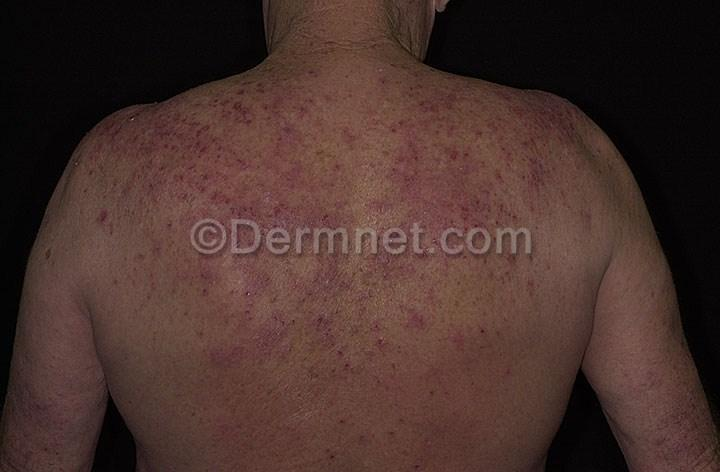Eczema: (230, 291, 316, 386), (306, 218, 389, 307), (318, 375, 396, 463), (386, 340, 450, 438), (314, 295, 393, 374), (171, 294, 237, 384), (240, 378, 318, 447), (453, 220, 530, 289), (453, 134, 509, 224), (445, 283, 527, 343), (425, 76, 496, 145), (393, 269, 454, 348), (173, 370, 239, 441), (233, 115, 305, 180), (521, 141, 575, 227), (245, 170, 311, 240), (385, 145, 449, 214), (389, 211, 450, 282), (244, 238, 304, 307), (140, 190, 200, 255), (109, 252, 177, 309), (302, 115, 357, 183), (311, 170, 364, 240), (183, 243, 241, 304), (3, 373, 64, 431), (440, 342, 494, 407), (120, 103, 181, 160), (203, 184, 257, 248), (450, 384, 502, 449), (523, 95, 579, 155), (633, 356, 685, 420), (377, 93, 431, 152), (80, 174, 135, 226), (138, 142, 189, 195), (198, 135, 245, 192), (182, 94, 231, 143), (478, 344, 524, 395), (79, 124, 124, 175), (393, 429, 448, 470), (247, 441, 316, 472), (41, 419, 82, 469), (533, 244, 571, 296), (576, 192, 617, 240), (232, 74, 276, 118), (493, 94, 534, 141), (670, 394, 710, 442), (641, 420, 684, 463), (277, 55, 326, 91), (283, 87, 329, 125), (388, 59, 431, 96), (17, 425, 42, 462)
